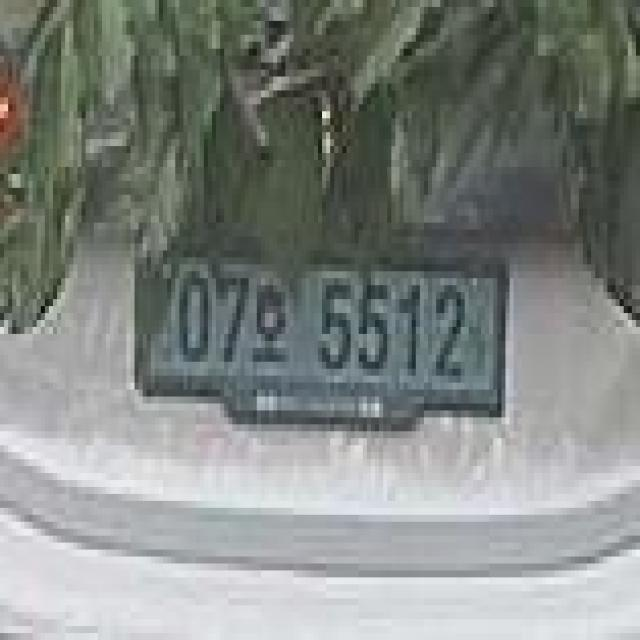EV_plate: (132, 233, 518, 441)
